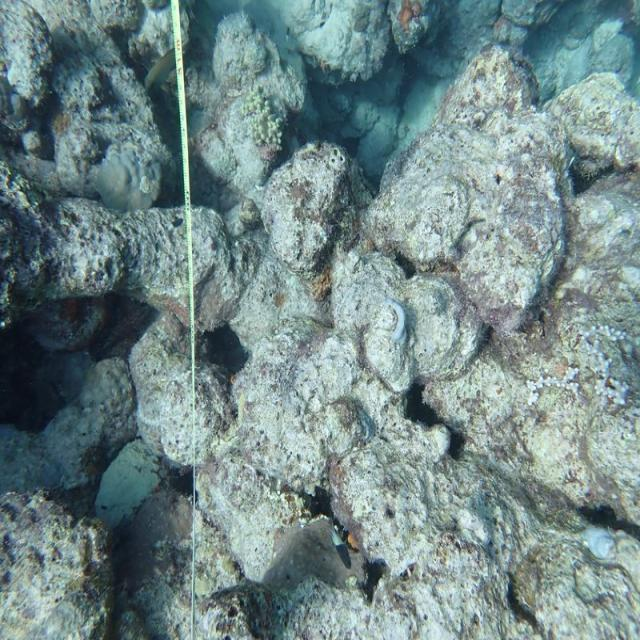Bleached Coral: (85, 138, 168, 214), (572, 509, 626, 574), (378, 298, 416, 356)
